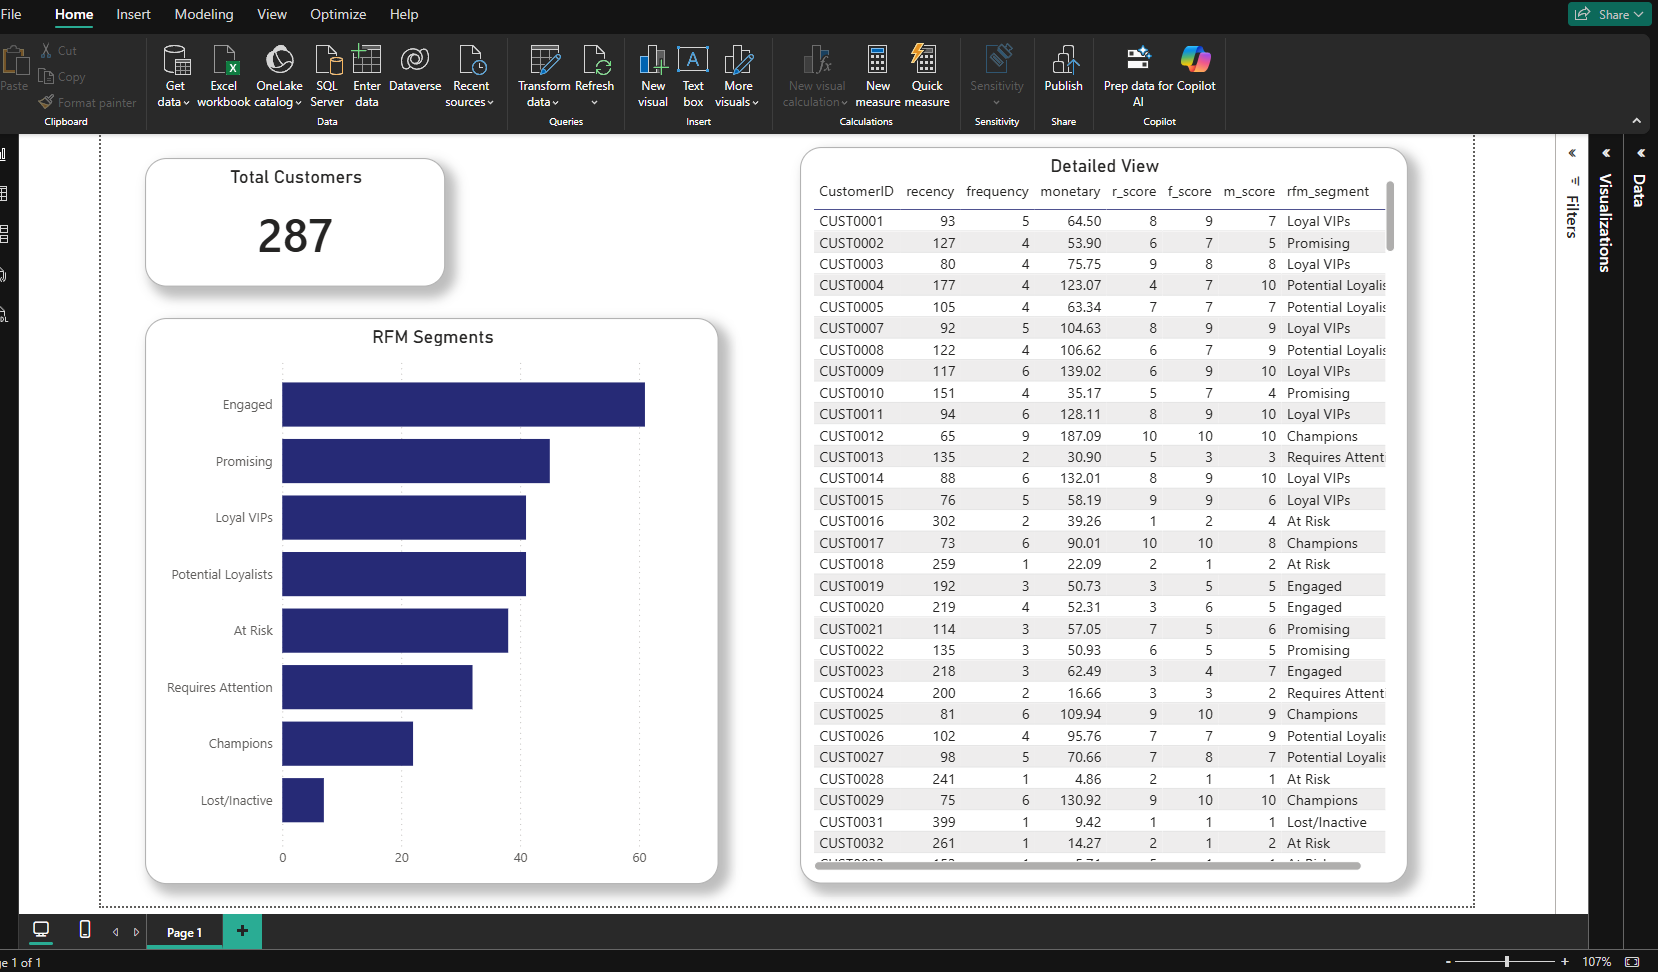

This screenshot's page, from the dashboard's own definition file:
{"tool":"powerbi","page":{"name":"Page 1","canvas":[1280,720],"ordinal":0},"visuals":[{"type":"cardVisual","title":"Total Customers ","fields":{"Data":["Query1.Total Customers"]},"box":[40.8,22.7,280.1,120.2],"z":0},{"type":"clusteredBarChart","title":"RFM Segments","fields":{"Category":["Query1.rfm_segment"],"Y":["CountNonNull(Query1.CustomerID)"]},"box":[40.8,171.2,535.2,528.4],"z":1},{"type":"tableEx","title":"Detailed View ","fields":{"Values":["Query1.CustomerID","Query1.recency","Query1.frequency","Query1.monetary","Query1.r_score","Query1.f_score","Query1.m_score","Query1.rfm_segment"]},"box":[652,12.5,566.9,687.1],"z":3}]}

Visuals, with their boxes on the page's 1280x720 design canvas (x1, y1, x2, y2). These are canvas units, not pixel positions in the 1658x972 screenshot, which may show the page scaled, cropped or inside an application window:
"Total Customers " cardVisual: [x1=41, y1=23, x2=321, y2=143]
"RFM Segments" clusteredBarChart: [x1=41, y1=171, x2=576, y2=700]
"Detailed View " tableEx: [x1=652, y1=12, x2=1219, y2=700]
